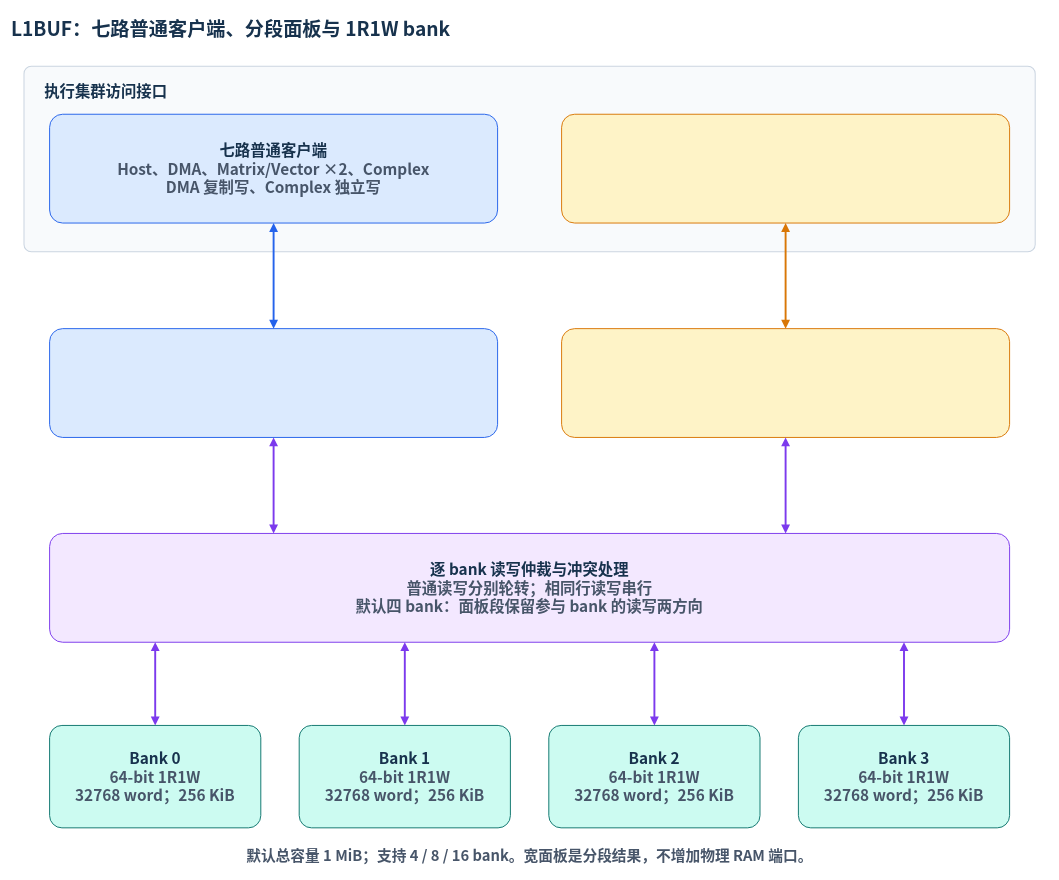
This 1059x880 diagram has some shape labels left out. Here are the shapes that lost their labels. From the top down, the box of each, then its label:
(561, 113, 1010, 223): Direct 面板接口 A/B 读，C 读写，B-only 与紧凑 A 读结果 32×64 bit；写载荷 16×64 bit
(49, 328, 498, 438): 各客户端独立顺序队列 2 项待执行请求；3 项响应信用 同步返回级、短响应存储和写提交指示
(561, 328, 1010, 438): 面板分段与收集流水 先检查完整范围，再逐 bank 段访问 四 bank：独立最终响应寄存器
